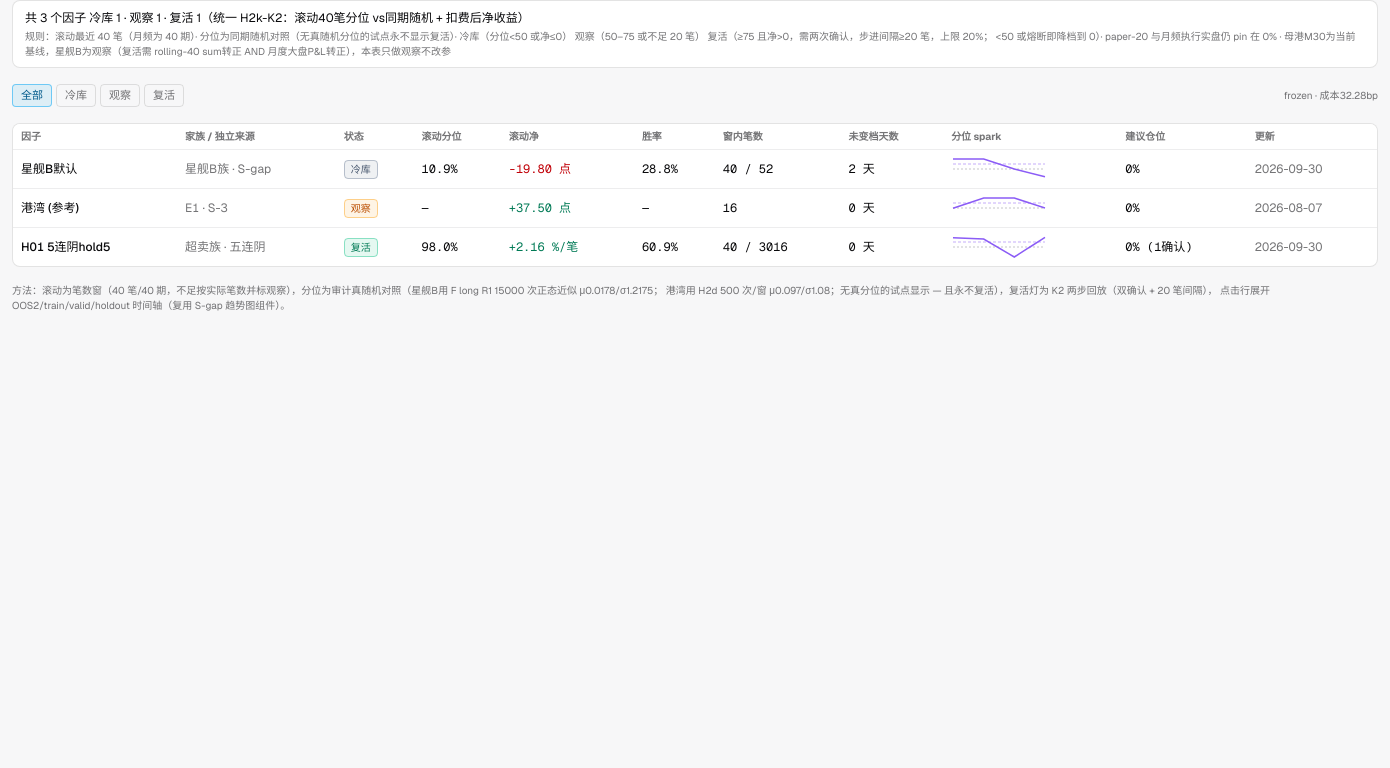
Test: FactorVaultPanel › expands a time-axis percentile/return chart on row click
Click the row with test id "vault-row-starship_b".
click(695, 169)  # box left=13, top=149, right=1377, bottom=188
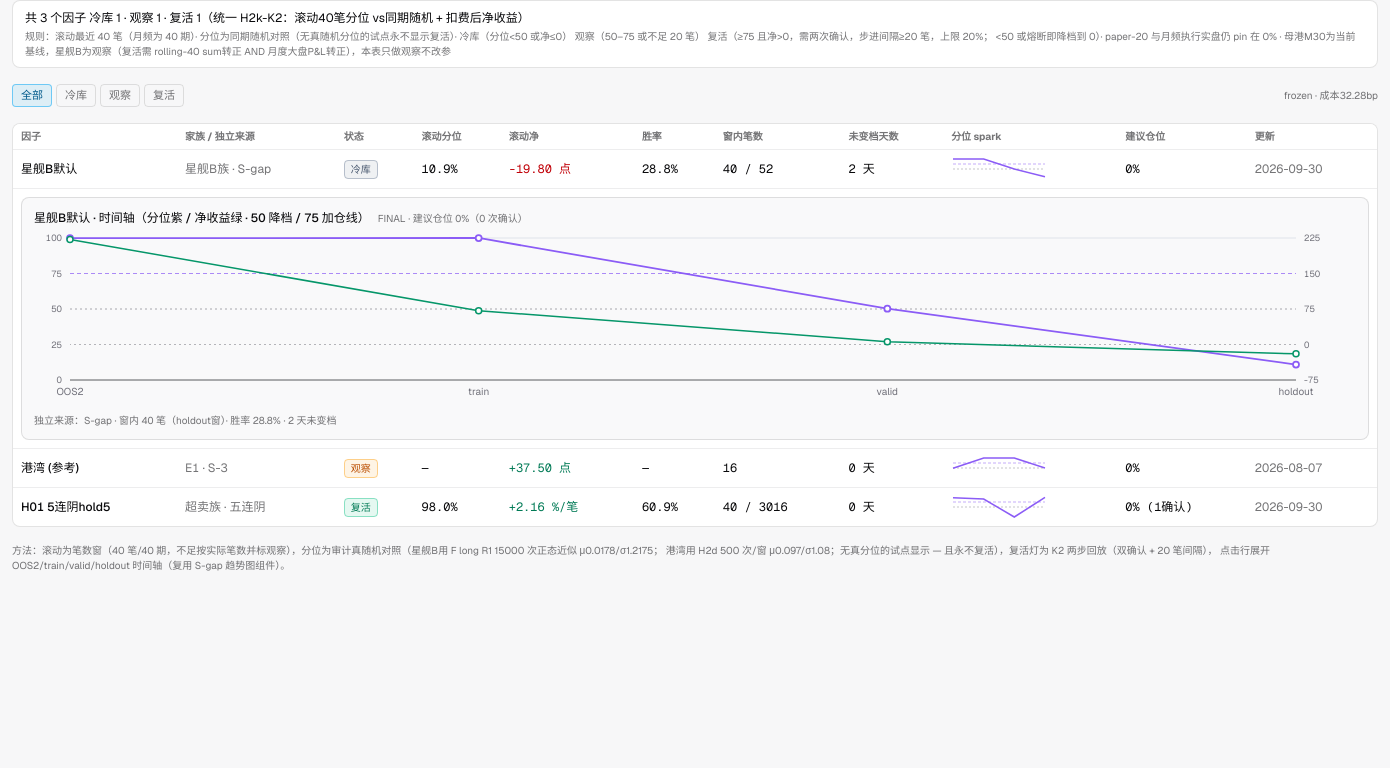
expect the element with test id "vault-detail-starship_b" is shown: met, box left=21, top=197, right=1369, bottom=440
expect the element with test id "vault-chart-starship_b" is shown: met, box left=34, top=230, right=1356, bottom=410
